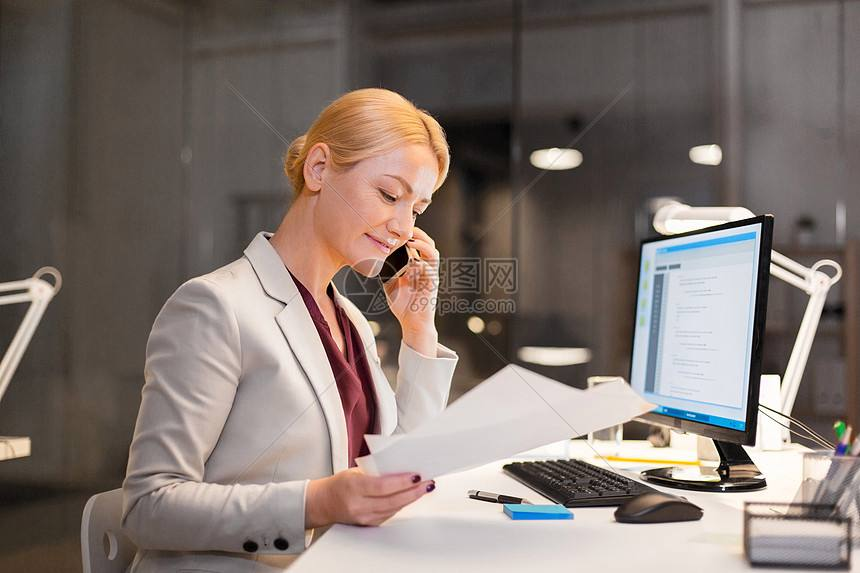calling: (374, 219, 443, 322)
